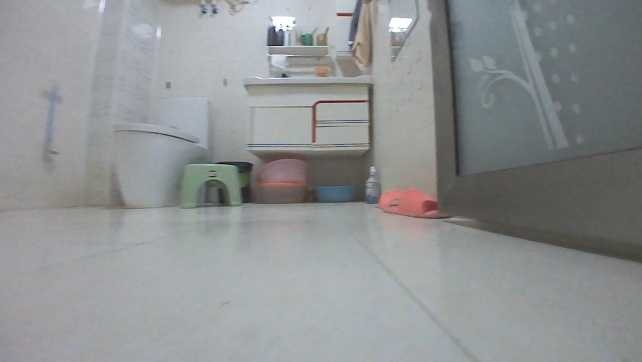door_anno: (420, 0, 641, 249)
plastic_stool: (177, 160, 243, 209)
slipper: (388, 185, 439, 220)
toilet: (106, 92, 211, 211)
washstand: (240, 72, 371, 159)
